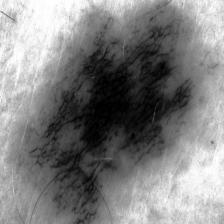Benign Marking or Mole: (13, 1, 194, 224)
